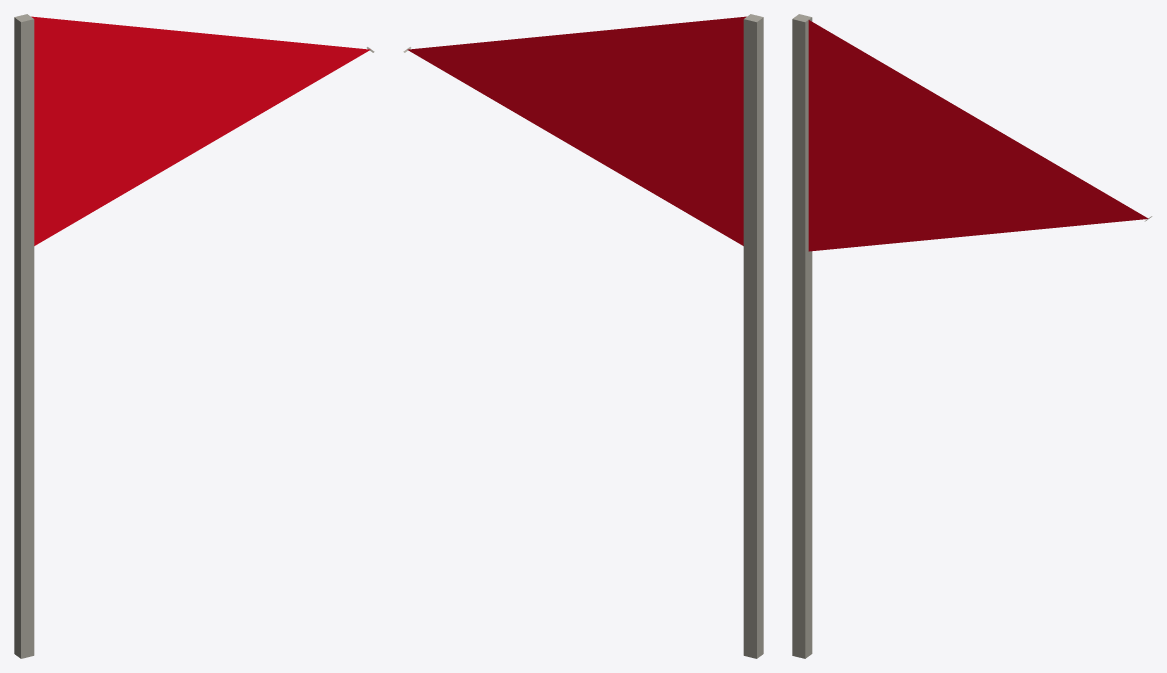
Rendered from Bandeira Checkpoint.fbx.
3 views of the same model, side by side, from view 1: azimuth 30°, elevation 25°; view 2: azimuth 150°, elevation 25°; view 3: azimuth 330°, elevation 25° (orthographic).
Visible parts, largest first — view 1: Bandeira Checkpoint; view 2: Bandeira Checkpoint; view 3: Bandeira Checkpoint.
Boxes of the visible parts, bbox=[...] form: Bandeira Checkpoint: bbox=[14, 14, 374, 658]; Bandeira Checkpoint: bbox=[403, 14, 763, 658]; Bandeira Checkpoint: bbox=[792, 14, 1152, 658].
Bounding box in the file's own units: 321 × 553 × 11.18.
